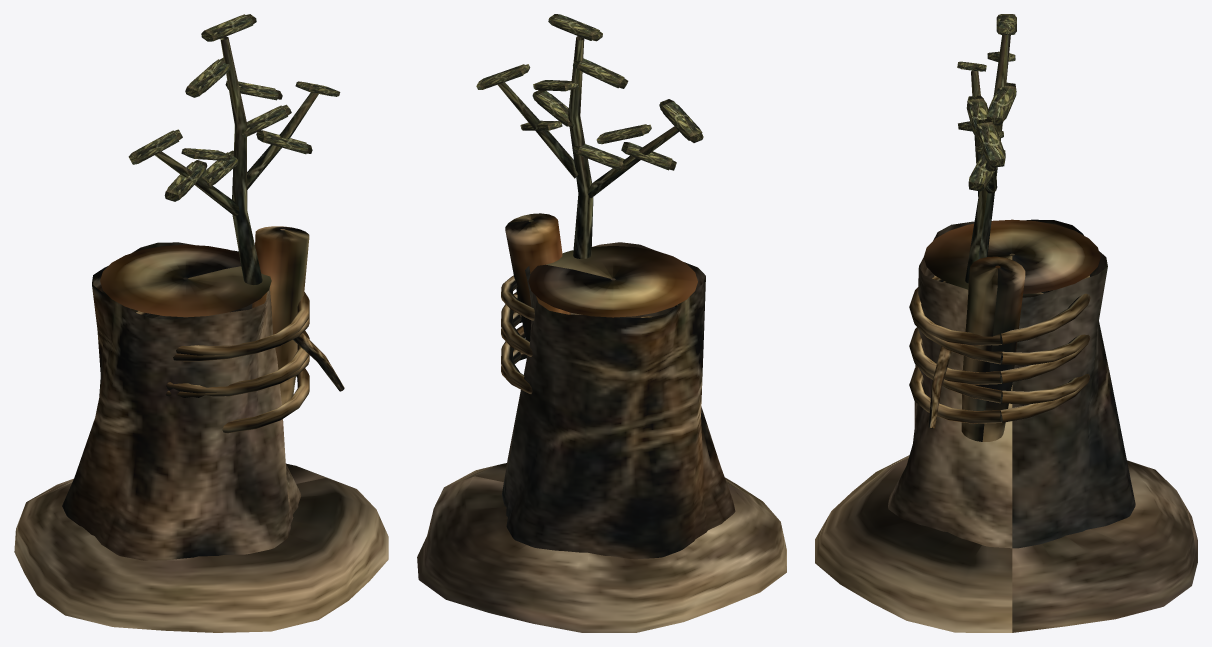
The model's file is grafted-branch.glb.
3 views of the same model, side by side, from view 1: azimuth 30°, elevation 25°; view 2: azimuth 150°, elevation 25°; view 3: azimuth 270°, elevation 25° (orthographic). The views are drawn at different scales.
Parts seen in each view (by area): view 1: HeroRelicMonument; view 2: HeroRelicMonument; view 3: HeroRelicMonument.
Part boxes in pixels (x1,y1,x2,y2): HeroRelicMonument: [14, 14, 388, 632]; HeroRelicMonument: [417, 14, 786, 632]; HeroRelicMonument: [815, 14, 1197, 632].
Size of the model in its own units: 1.44 by 2.24 by 1.43.
1 material, 1 textured.
